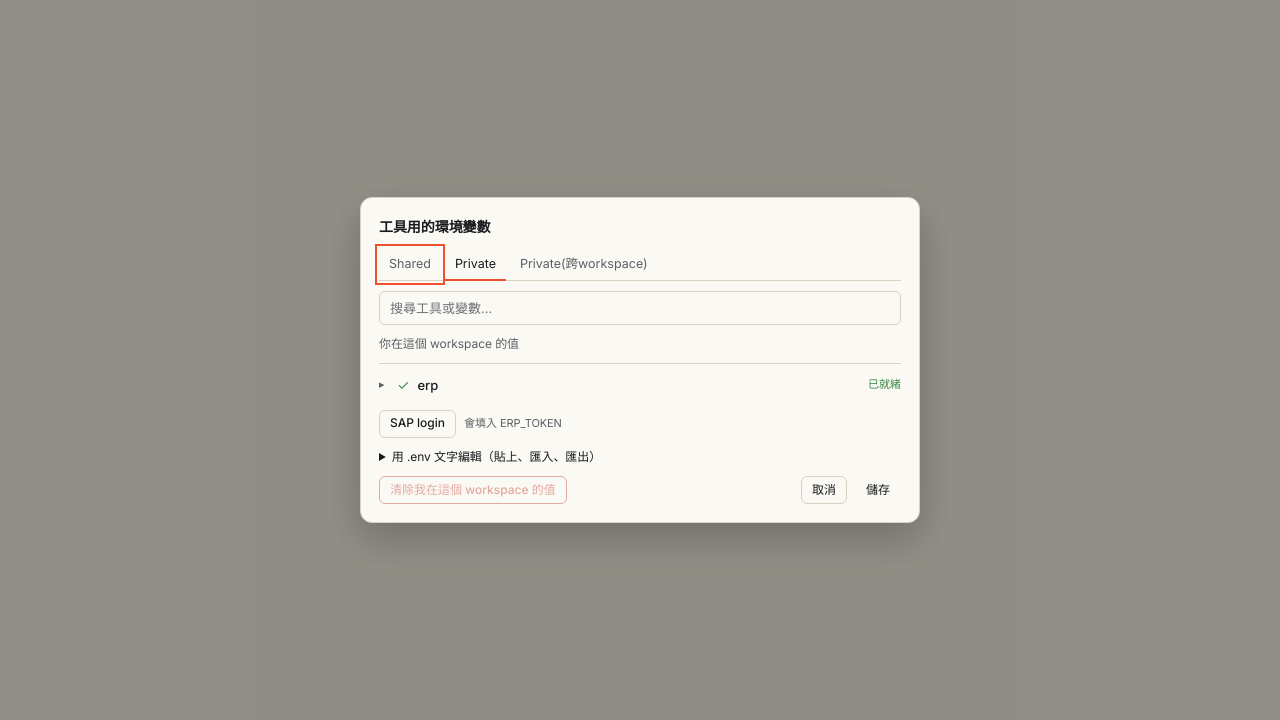
my environment variables in an item's Env panel › names my value for every item when it is the one in use
Click the button with test id "env-section-head-erp". click: [884, 384]
box: [379, 370, 901, 400]
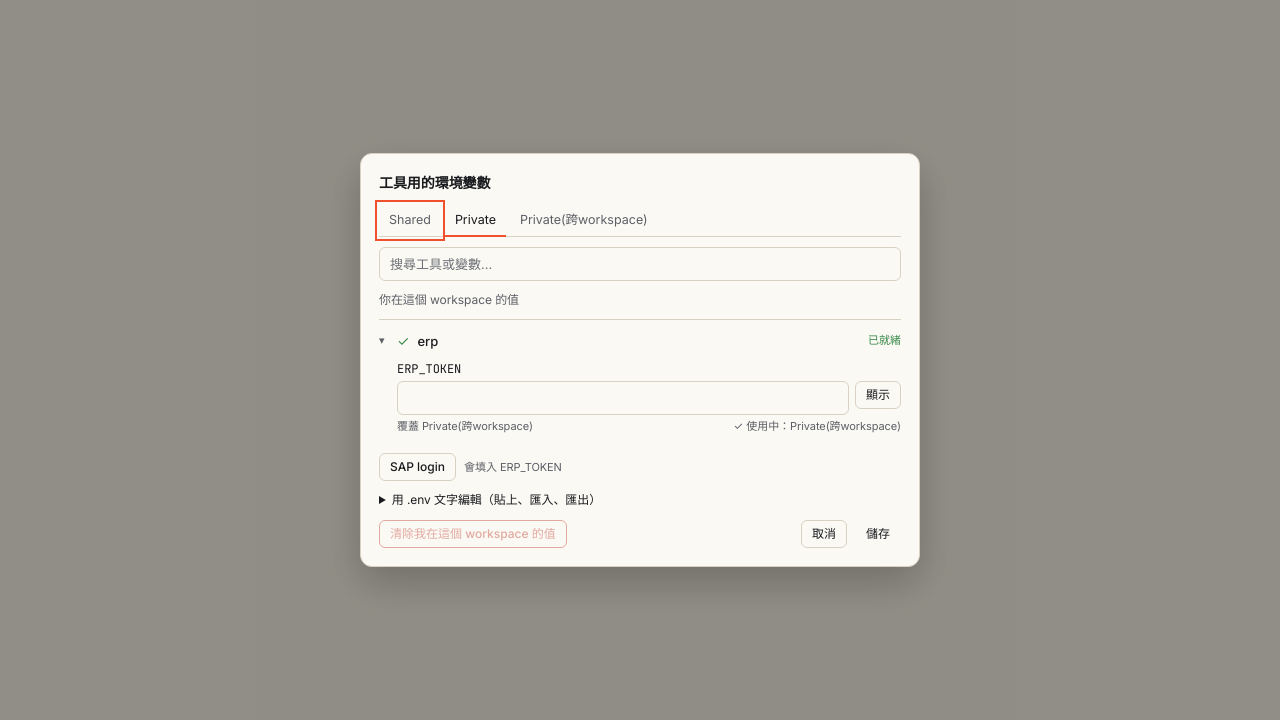
Check: the element with test id "env-mine-row-ERP_TOKEN" shows "使用中：Private(跨workspace)", box [746, 419, 901, 433]
